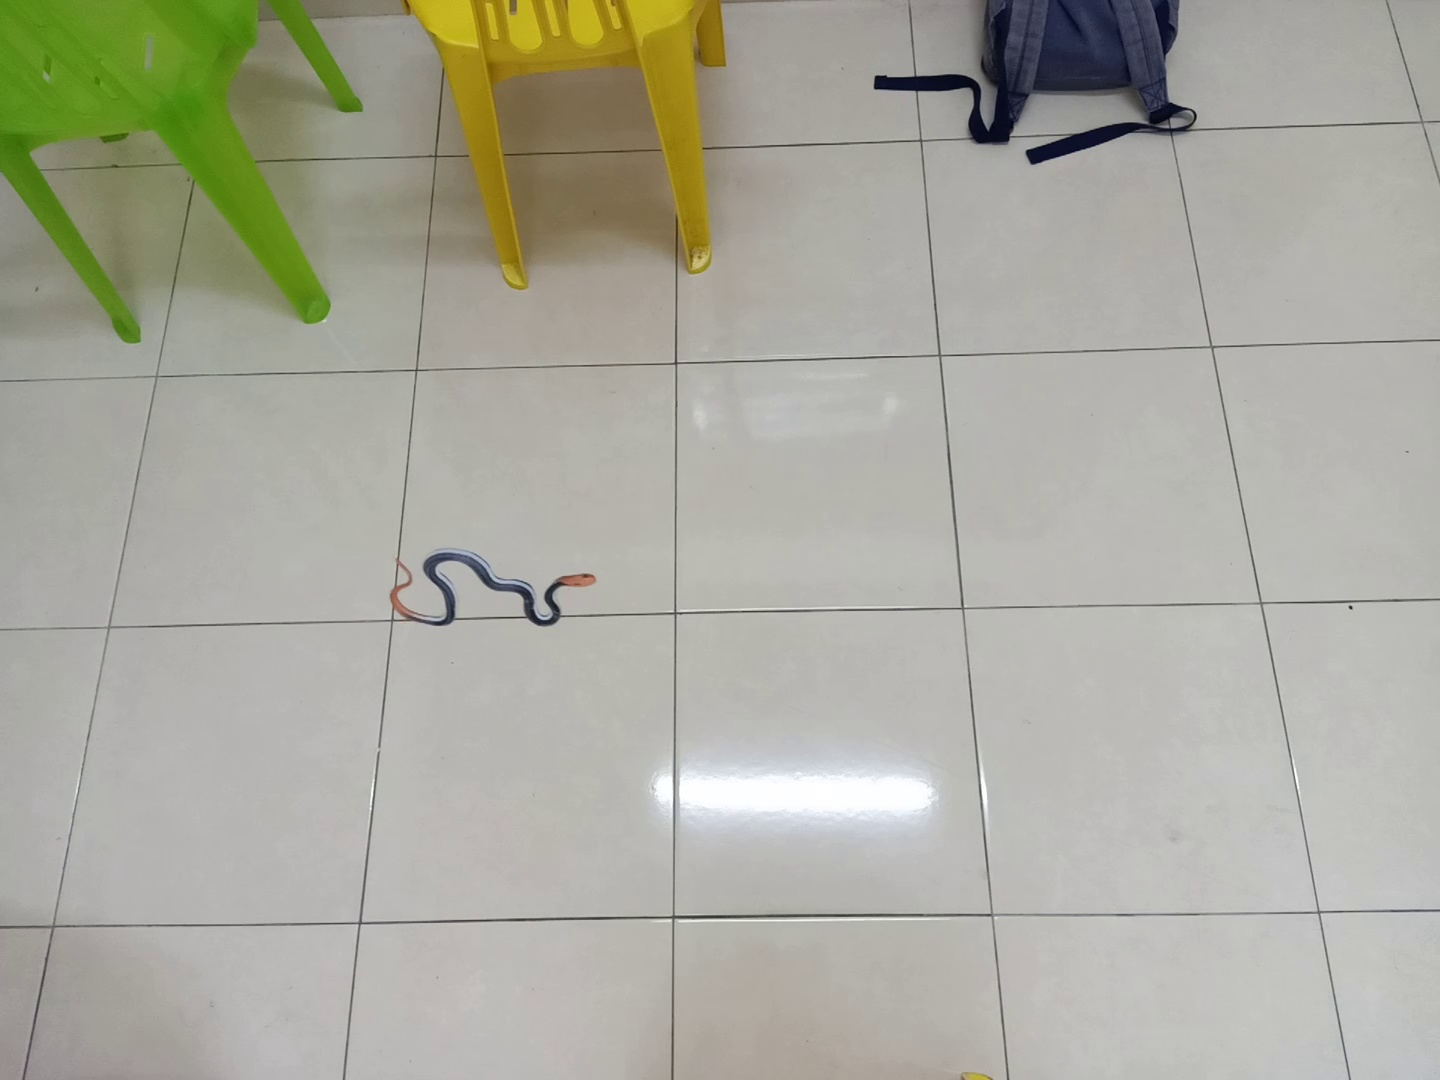snake: (382, 542, 603, 633)
